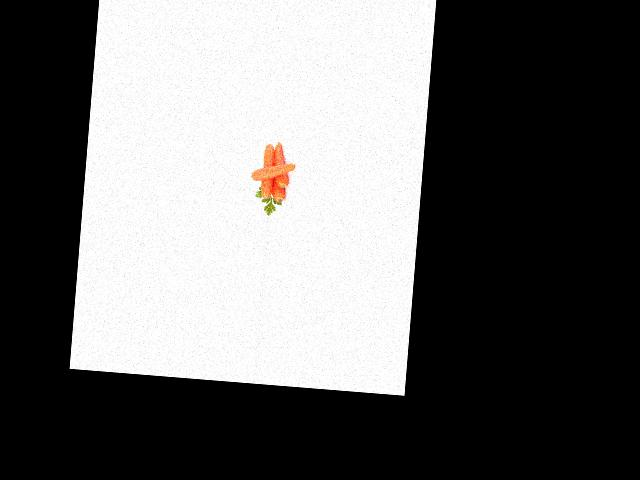carrot: (268, 150, 290, 202)
